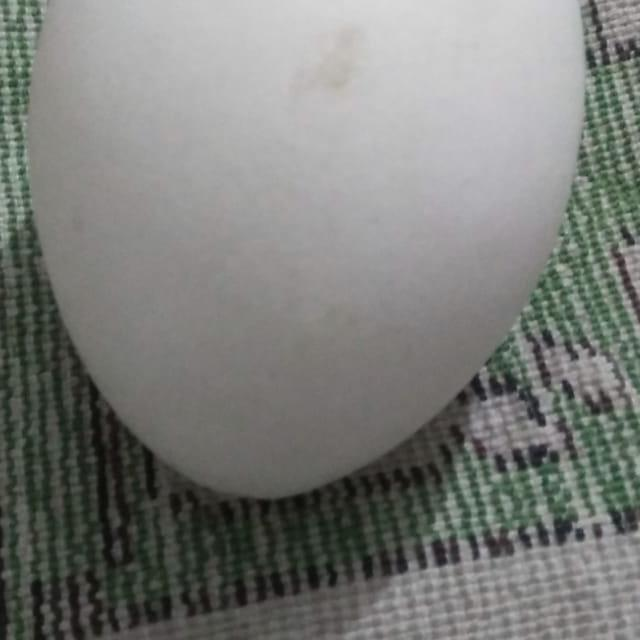egg: (21, 0, 589, 502)
